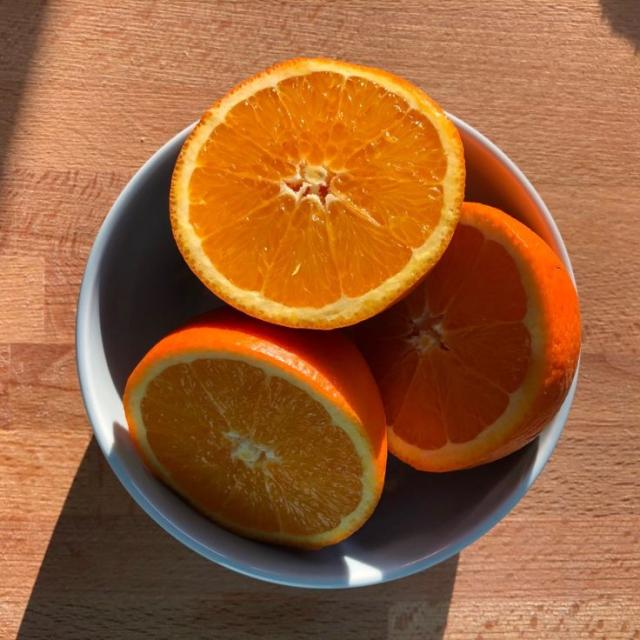orange: (170, 60, 464, 328), (124, 311, 386, 547), (355, 203, 580, 471)
